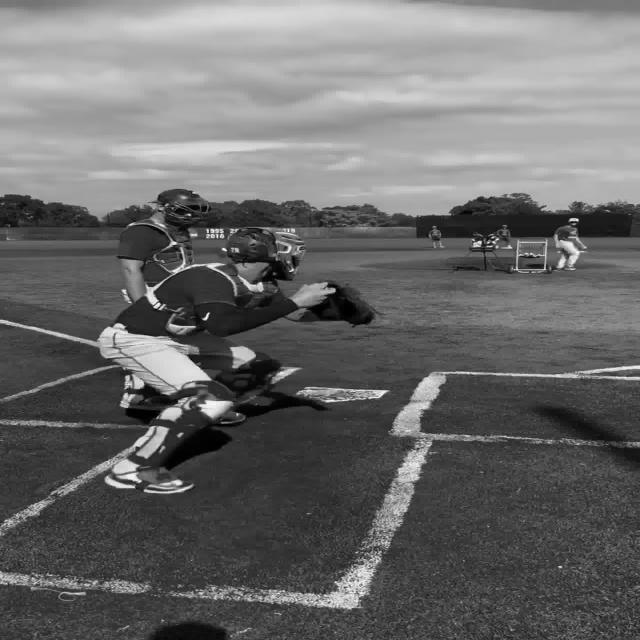base: (296, 385, 396, 411)
baseball_glove: (305, 282, 375, 326)
shoe: (171, 380, 245, 425), (104, 465, 194, 494), (216, 410, 246, 425)
